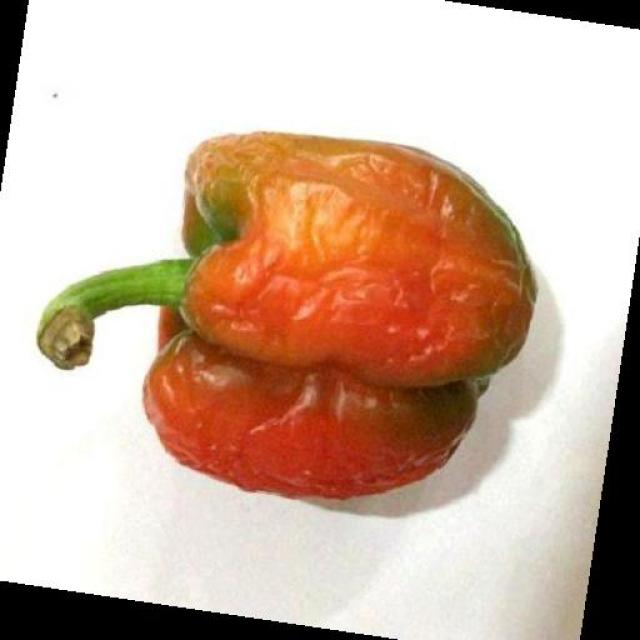Stale_Capsicum: (138, 92, 522, 510)
